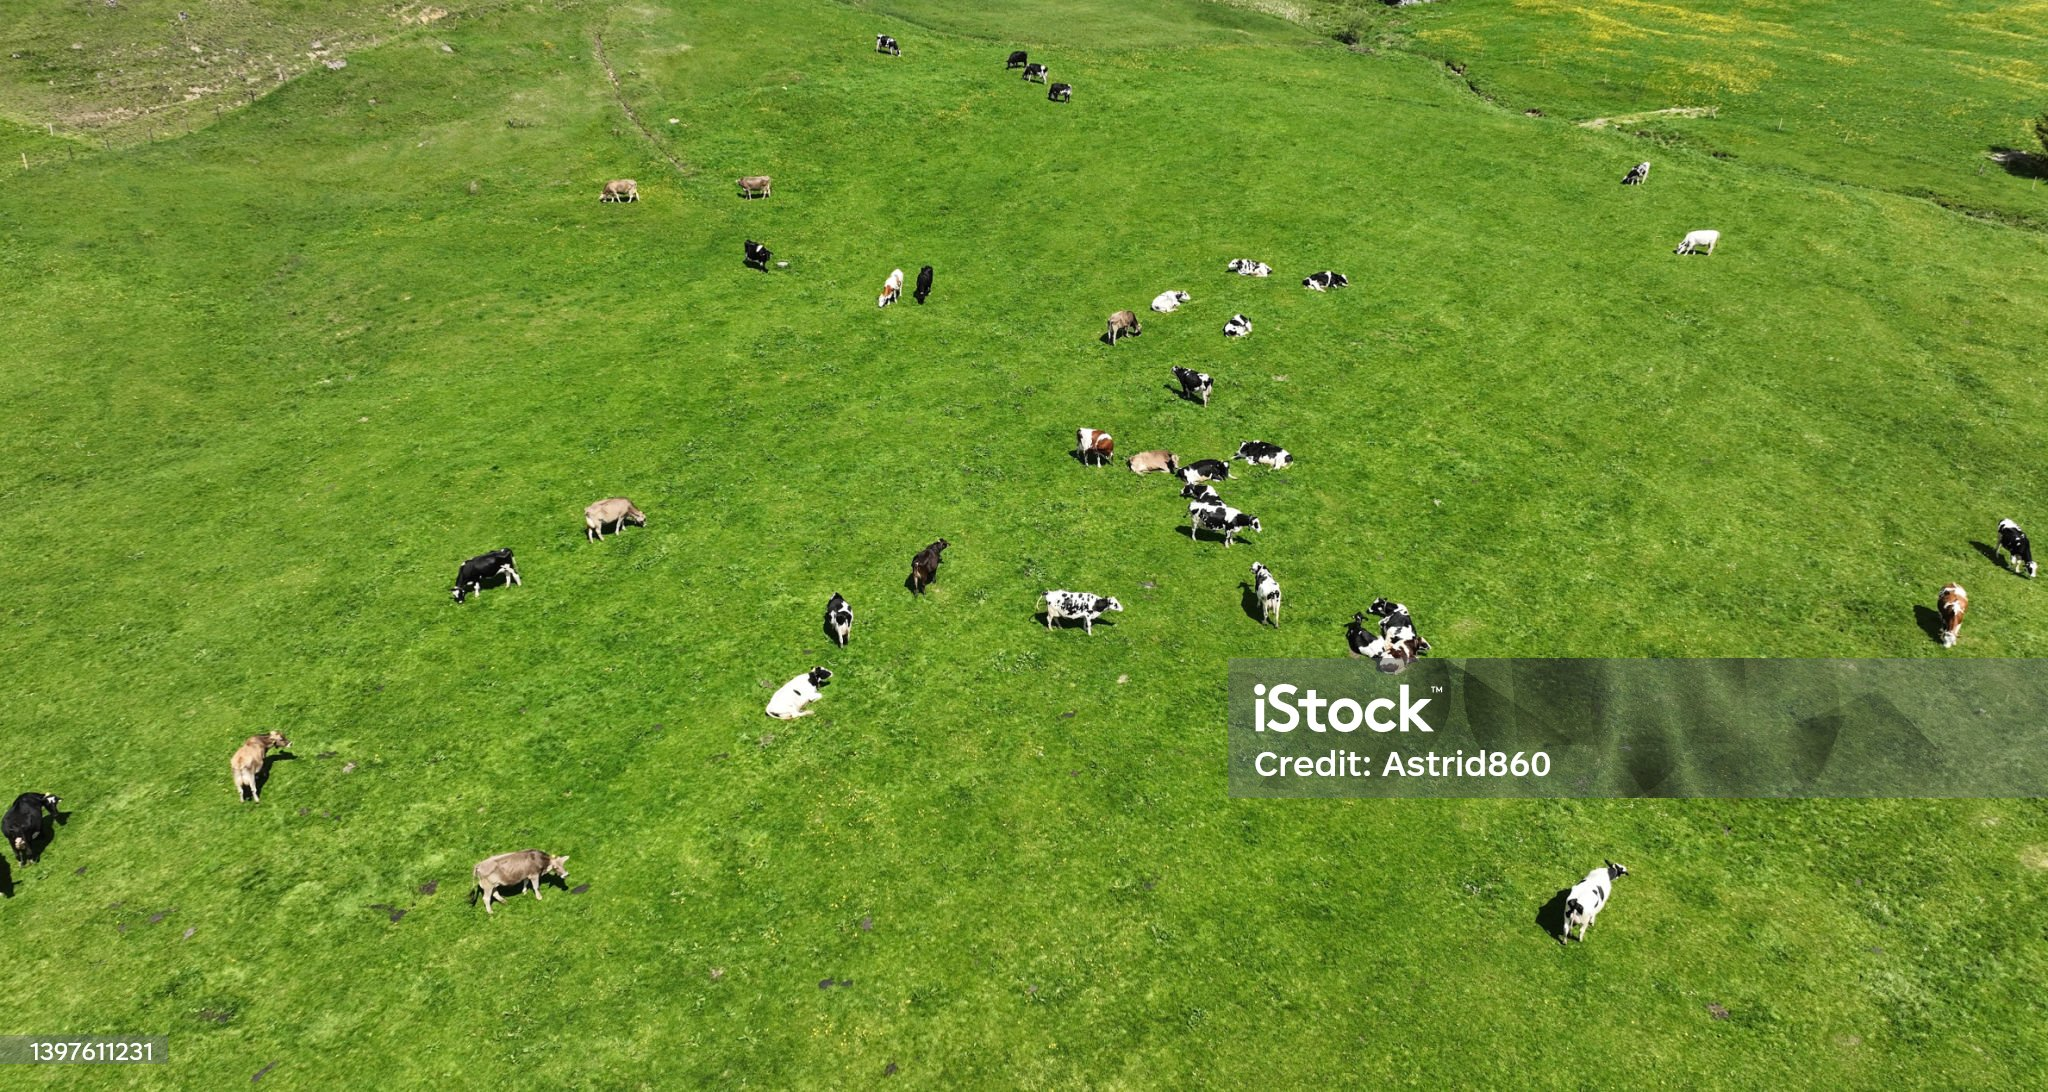cattle: (461, 836, 592, 920), (1548, 840, 1636, 950), (223, 725, 305, 803), (574, 488, 657, 564), (440, 542, 534, 608), (767, 657, 840, 738), (1, 778, 62, 862), (1025, 583, 1122, 635), (895, 528, 964, 599), (1182, 495, 1261, 555), (1373, 584, 1429, 664), (1988, 505, 2041, 581), (1329, 602, 1379, 680), (1069, 412, 1120, 477), (1247, 554, 1292, 629), (1165, 360, 1222, 413), (1124, 444, 1184, 495), (1100, 303, 1153, 358), (1927, 580, 1972, 644), (819, 589, 861, 650), (1238, 429, 1295, 473), (1667, 226, 1726, 267), (1184, 451, 1237, 495), (1147, 280, 1192, 331), (909, 251, 945, 312), (870, 257, 912, 309), (1296, 264, 1354, 299), (591, 173, 638, 213), (1223, 247, 1272, 285), (868, 19, 906, 64), (733, 164, 782, 198), (737, 234, 777, 274), (1617, 159, 1658, 196), (1219, 308, 1253, 341), (998, 37, 1029, 70), (1016, 58, 1052, 84), (1046, 77, 1075, 102)
